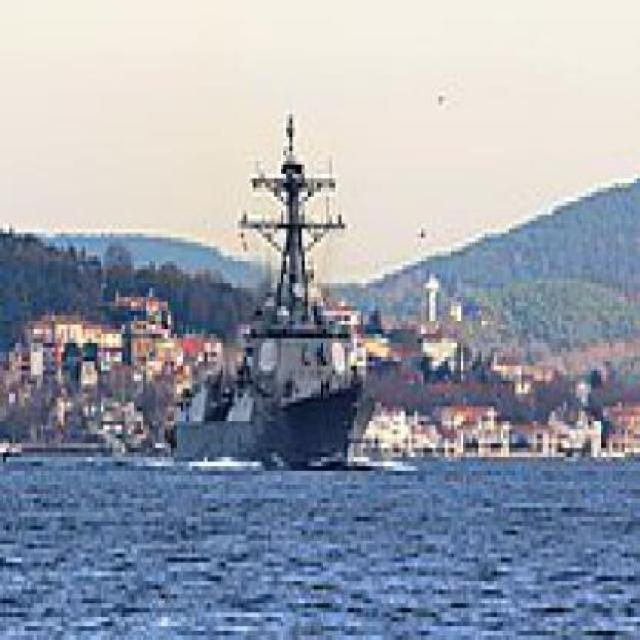warship2: (157, 97, 377, 463)
